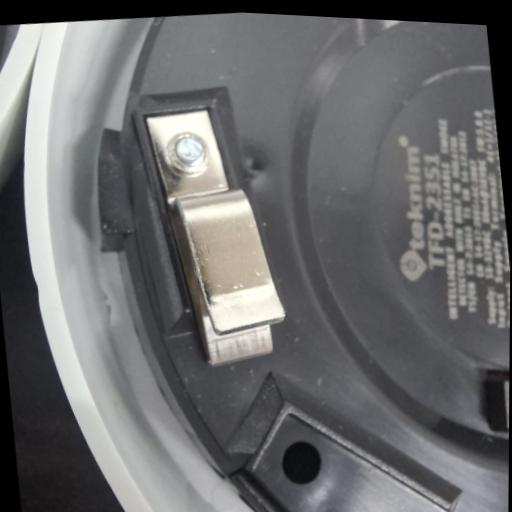yayli: (138, 94, 289, 372)
